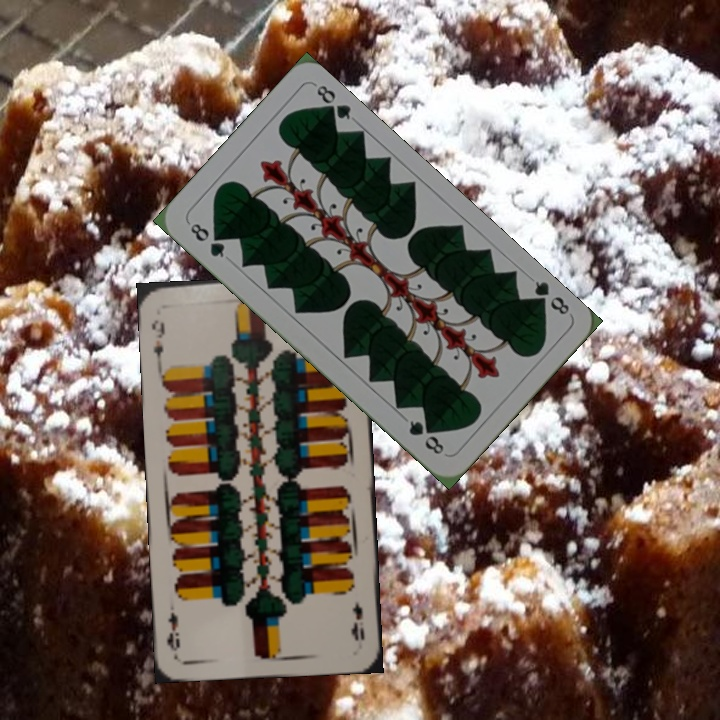E9: (147, 316, 168, 366), (347, 598, 367, 643)
G8: (527, 276, 572, 318), (186, 218, 227, 261)
